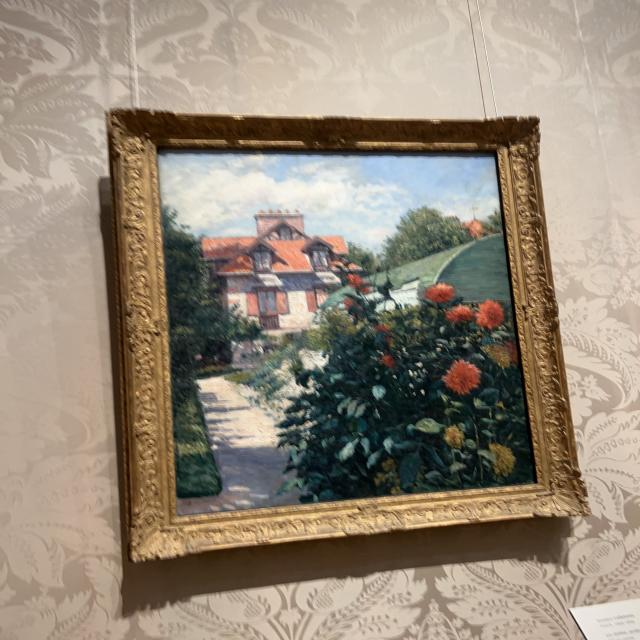summer: (162, 155, 533, 513)
